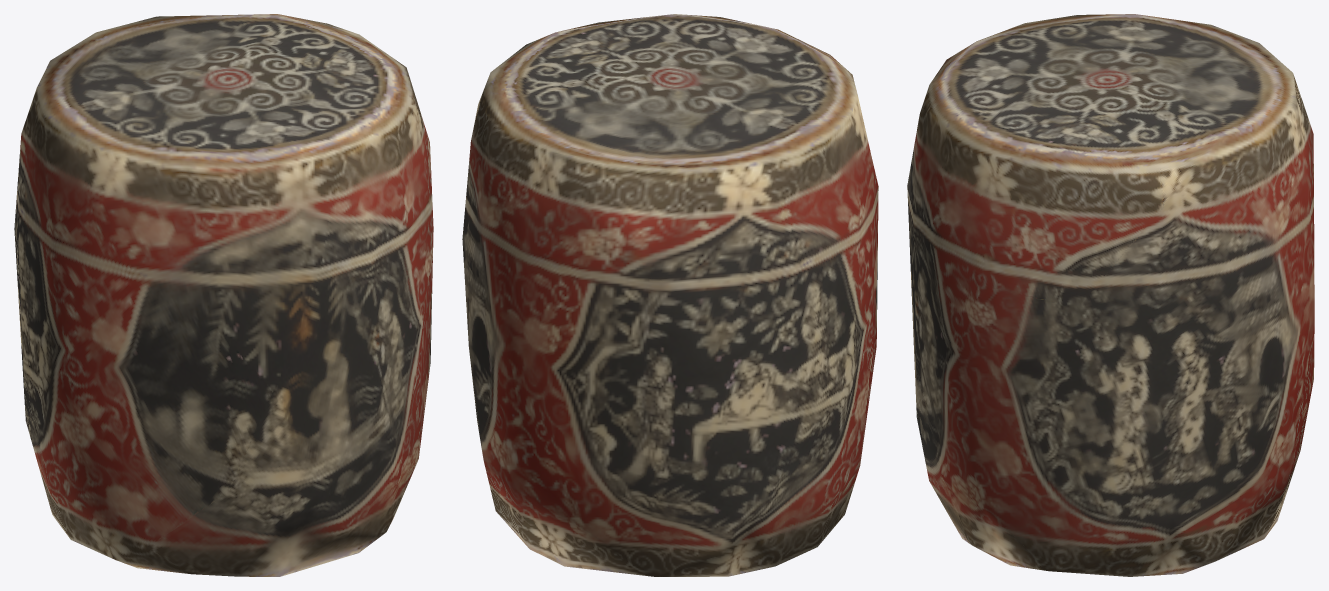
3 views of the same model, side by side, from view 1: azimuth 30°, elevation 25°; view 2: azimuth 150°, elevation 25°; view 3: azimuth 270°, elevation 25° (orthographic).
Visible parts, largest first — view 1: pMesh1; view 2: pMesh1; view 3: pMesh1.
Boxes of the visible parts, x1,y1,x2,y2 form: pMesh1: (14, 14, 433, 576); pMesh1: (462, 14, 878, 576); pMesh1: (907, 14, 1314, 576).
Bounding box in the file's own units: 0.0388 × 0.0448 × 0.0381.
1 material, 1 textured.
